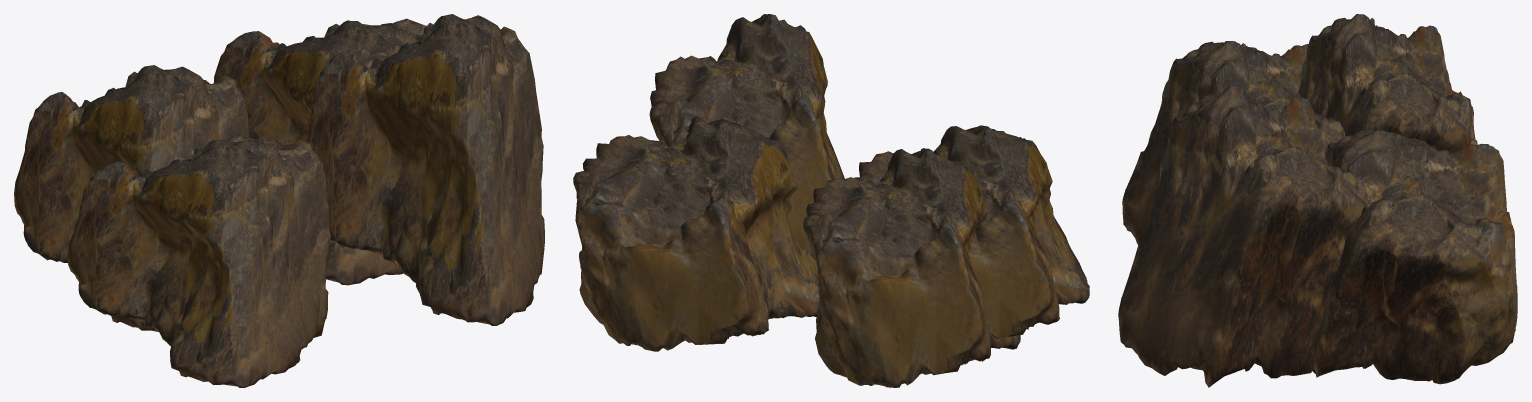
Rendered from cliff-2.obj.
The picture shows the model from 3 angles, left to right: view 1: azimuth 30°, elevation 25°; view 2: azimuth 150°, elevation 25°; view 3: azimuth 270°, elevation 25°; orthographic projection. The views are drawn at different scales.
Visible parts, largest first — view 1: cliff-2; view 2: cliff-2; view 3: cliff-2.
Part boxes in pixels (x1,y1,x2,y2): cliff-2: [14, 14, 544, 387]; cliff-2: [573, 14, 1089, 387]; cliff-2: [1118, 14, 1517, 387].
Bounding box in the file's own units: 7.61 × 4.41 × 5.94.
Materials: 1 (1 with a texture image).
